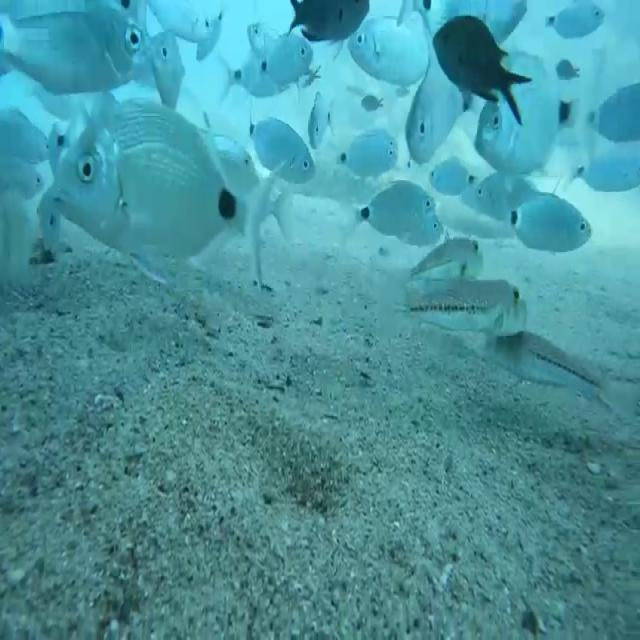Balon Baligi: (392, 278, 527, 336), (486, 330, 606, 394), (402, 238, 483, 280)
